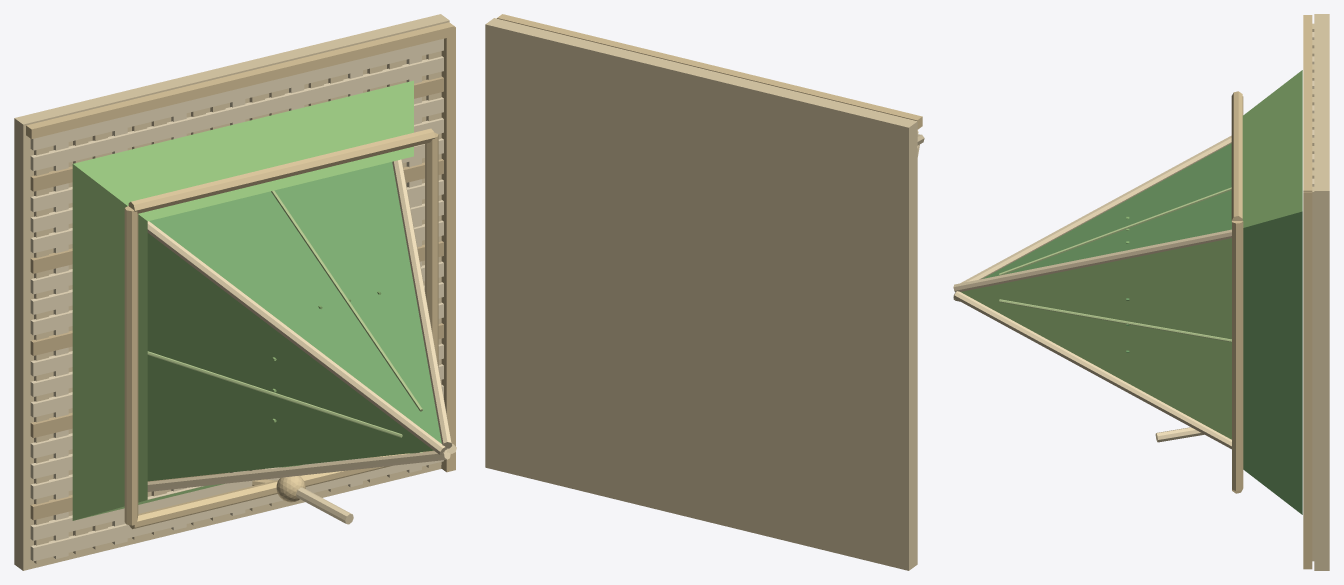
Rendered from iwel_iwel_limas.glb.
3 renders of one model, left to right at view 1: azimuth 30°, elevation 25°; view 2: azimuth 150°, elevation 25°; view 3: azimuth 270°, elevation 25°, orthographic. The views are drawn at different scales.
Parts seen in each view (by area): view 1: Bungkus daun pisang sisi 3, Bungkus daun pisang sisi 4, Lipat daun bawah 4, Lipat daun bawah 3, Alas anyaman utama, Bingkai alas horizontal, Anyaman melintang 9, Bingkai alas vertikal, Anyaman melintang 10, Tali melingkar_3, Tali melingkar_2, Anyaman melintang -10 (+32 smaller); view 2: Alas anyaman utama, Bingkai alas horizontal; view 3: Bungkus daun pisang sisi 2, Lipat daun bawah 2, Bungkus daun pisang sisi 3, Alas anyaman utama, Lipat daun bawah 3, Bingkai alas vertikal, Tali melingkar_1, Bingkai alas horizontal, Tali ikat sisi 1_0, Tali ikat sisi 2_0, Tali melingkar_2, Tali ikat sisi 3_0 (+4 smaller).
Part boxes in pixels (left/top/right/bottom): Bungkus daun pisang sisi 3: left=149, top=162, right=441, bottom=443; Bungkus daun pisang sisi 4: left=147, top=233, right=433, bottom=481; Lipat daun bawah 4: left=72, top=164, right=147, bottom=520; Lipat daun bawah 3: left=73, top=80, right=413, bottom=221; Alas anyaman utama: left=14, top=14, right=449, bottom=570; Bingkai alas horizontal: left=26, top=22, right=454, bottom=139; Anyaman melintang 9: left=30, top=56, right=443, bottom=170; Bingkai alas vertikal: left=441, top=26, right=455, bottom=472; Anyaman melintang 10: left=30, top=38, right=443, bottom=150; Tali melingkar_3: left=124, top=206, right=138, bottom=525; Tali melingkar_2: left=128, top=128, right=435, bottom=213; Anyaman melintang -10: left=30, top=460, right=443, bottom=561; Alas anyaman utama: left=485, top=18, right=917, bottom=570; Bingkai alas horizontal: left=497, top=14, right=922, bottom=129; Bungkus daun pisang sisi 2: left=961, top=238, right=1231, bottom=439; Lipat daun bawah 2: left=1243, top=211, right=1302, bottom=514; Bungkus daun pisang sisi 3: left=982, top=143, right=1231, bottom=278; Alas anyaman utama: left=1314, top=14, right=1329, bottom=570; Lipat daun bawah 3: left=1242, top=70, right=1302, bottom=227; Bingkai alas vertikal: left=1303, top=192, right=1312, bottom=569; Tali melingkar_1: left=1232, top=221, right=1243, bottom=490; Bingkai alas horizontal: left=1303, top=15, right=1312, bottom=191; Tali ikat sisi 1_0: left=953, top=291, right=1128, bottom=390; Tali ikat sisi 2_0: left=953, top=250, right=1127, bottom=292; Tali melingkar_2: left=1231, top=91, right=1242, bottom=221; Tali ikat sisi 3_0: left=960, top=193, right=1128, bottom=283.
Size of the model in its own units: 2.5 by 2.5 by 2.24.
